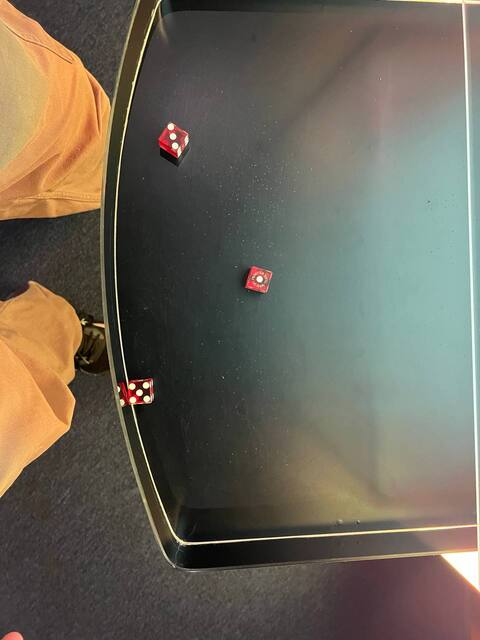five: (122, 375, 156, 410)
one: (242, 263, 274, 296)
three: (157, 120, 187, 154)
